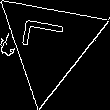L_E: (23, 24, 76, 63)
